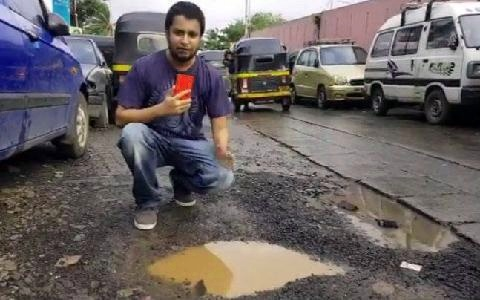pothole: (143, 235, 346, 297), (312, 179, 462, 250)
